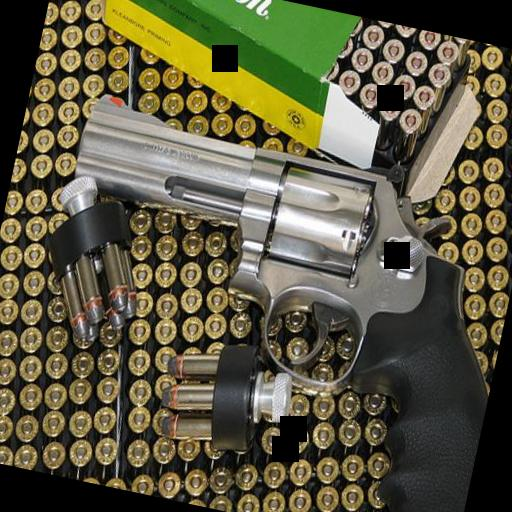Handgun: (11, 86, 512, 512)
